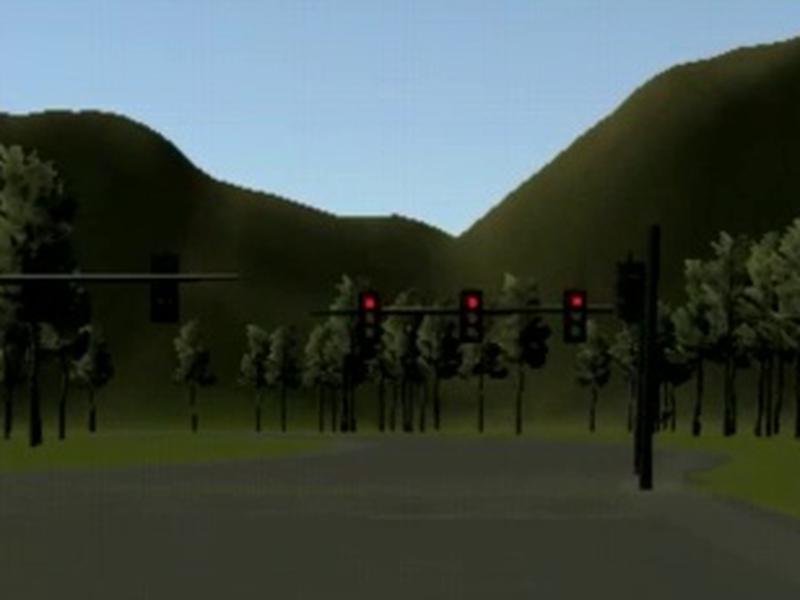Red: (358, 292, 383, 347), (461, 289, 485, 343), (564, 289, 588, 342)
